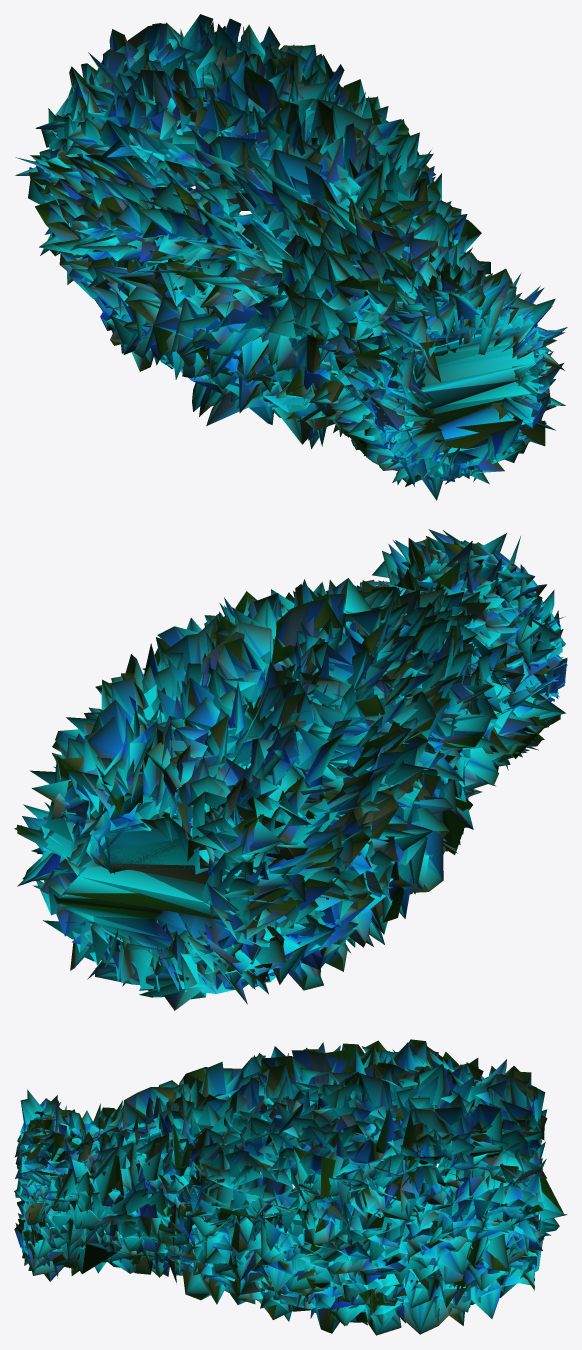
Rendered from lamp_shade_10_final300.obj.
The picture shows the model from 3 angles, top to bottom: view 1: azimuth 30°, elevation 25°; view 2: azimuth 150°, elevation 25°; view 3: azimuth 270°, elevation 25°; orthographic projection. The views are drawn at different scales.
Size of the model in its own units: 1.03 by 1.02 by 1.92.
